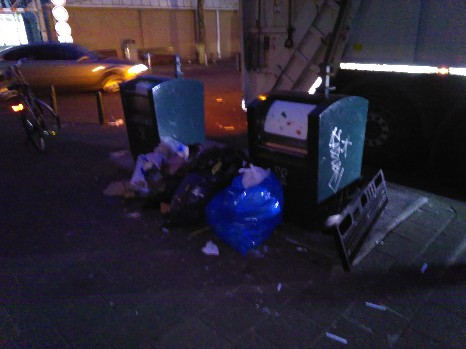Container: (249, 92, 360, 173), (123, 68, 204, 142)
Rest: (321, 149, 414, 270), (218, 168, 298, 239), (131, 154, 188, 209), (182, 159, 216, 219)
